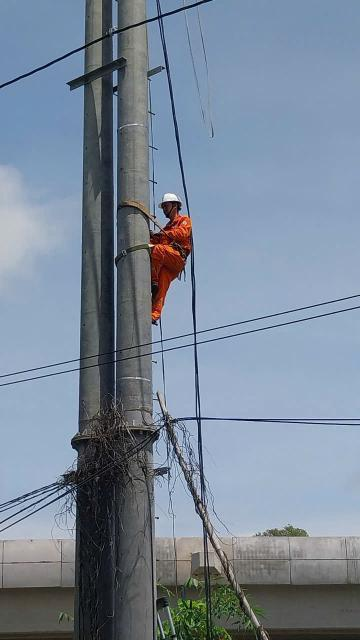harness: (160, 237, 198, 264)
helmet: (157, 188, 184, 210)
shoes: (146, 279, 159, 296)
